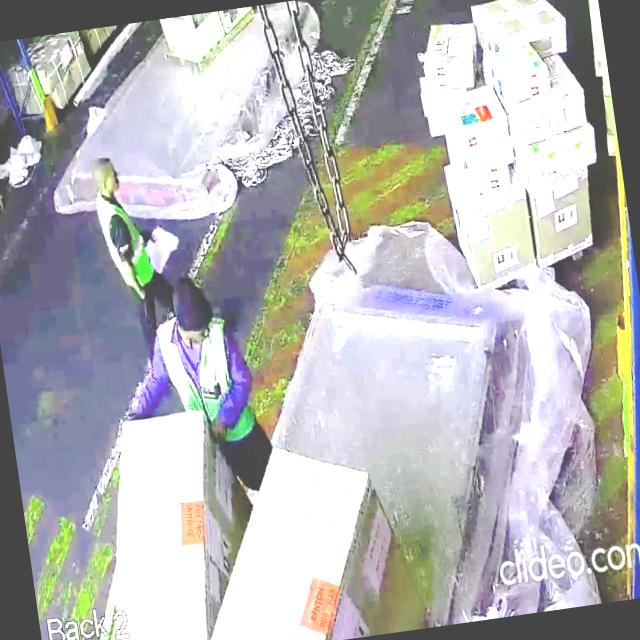Box: (448, 187, 540, 280), (526, 178, 598, 264), (472, 0, 566, 55), (417, 16, 475, 90), (447, 86, 512, 152), (518, 96, 593, 140), (524, 134, 598, 178), (492, 44, 544, 96)
